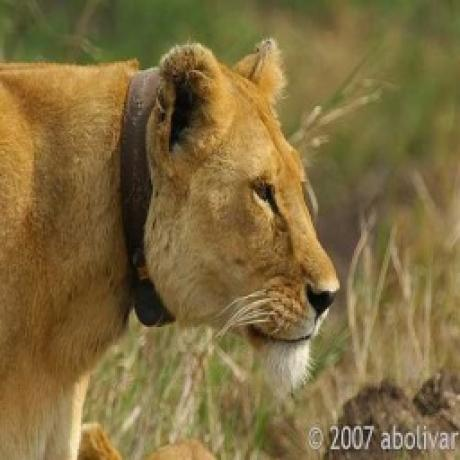Lion: (0, 40, 340, 460)
